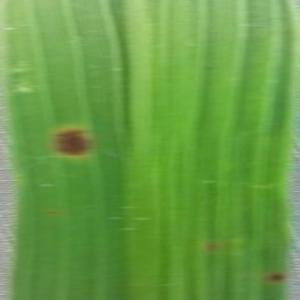Brown_Spot: (40, 115, 104, 168), (265, 264, 290, 289), (200, 238, 225, 257)
